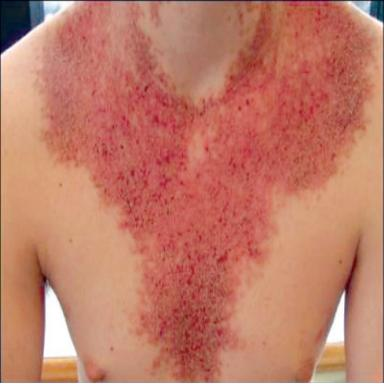Darier_s-Disease: (31, 3, 382, 384)
